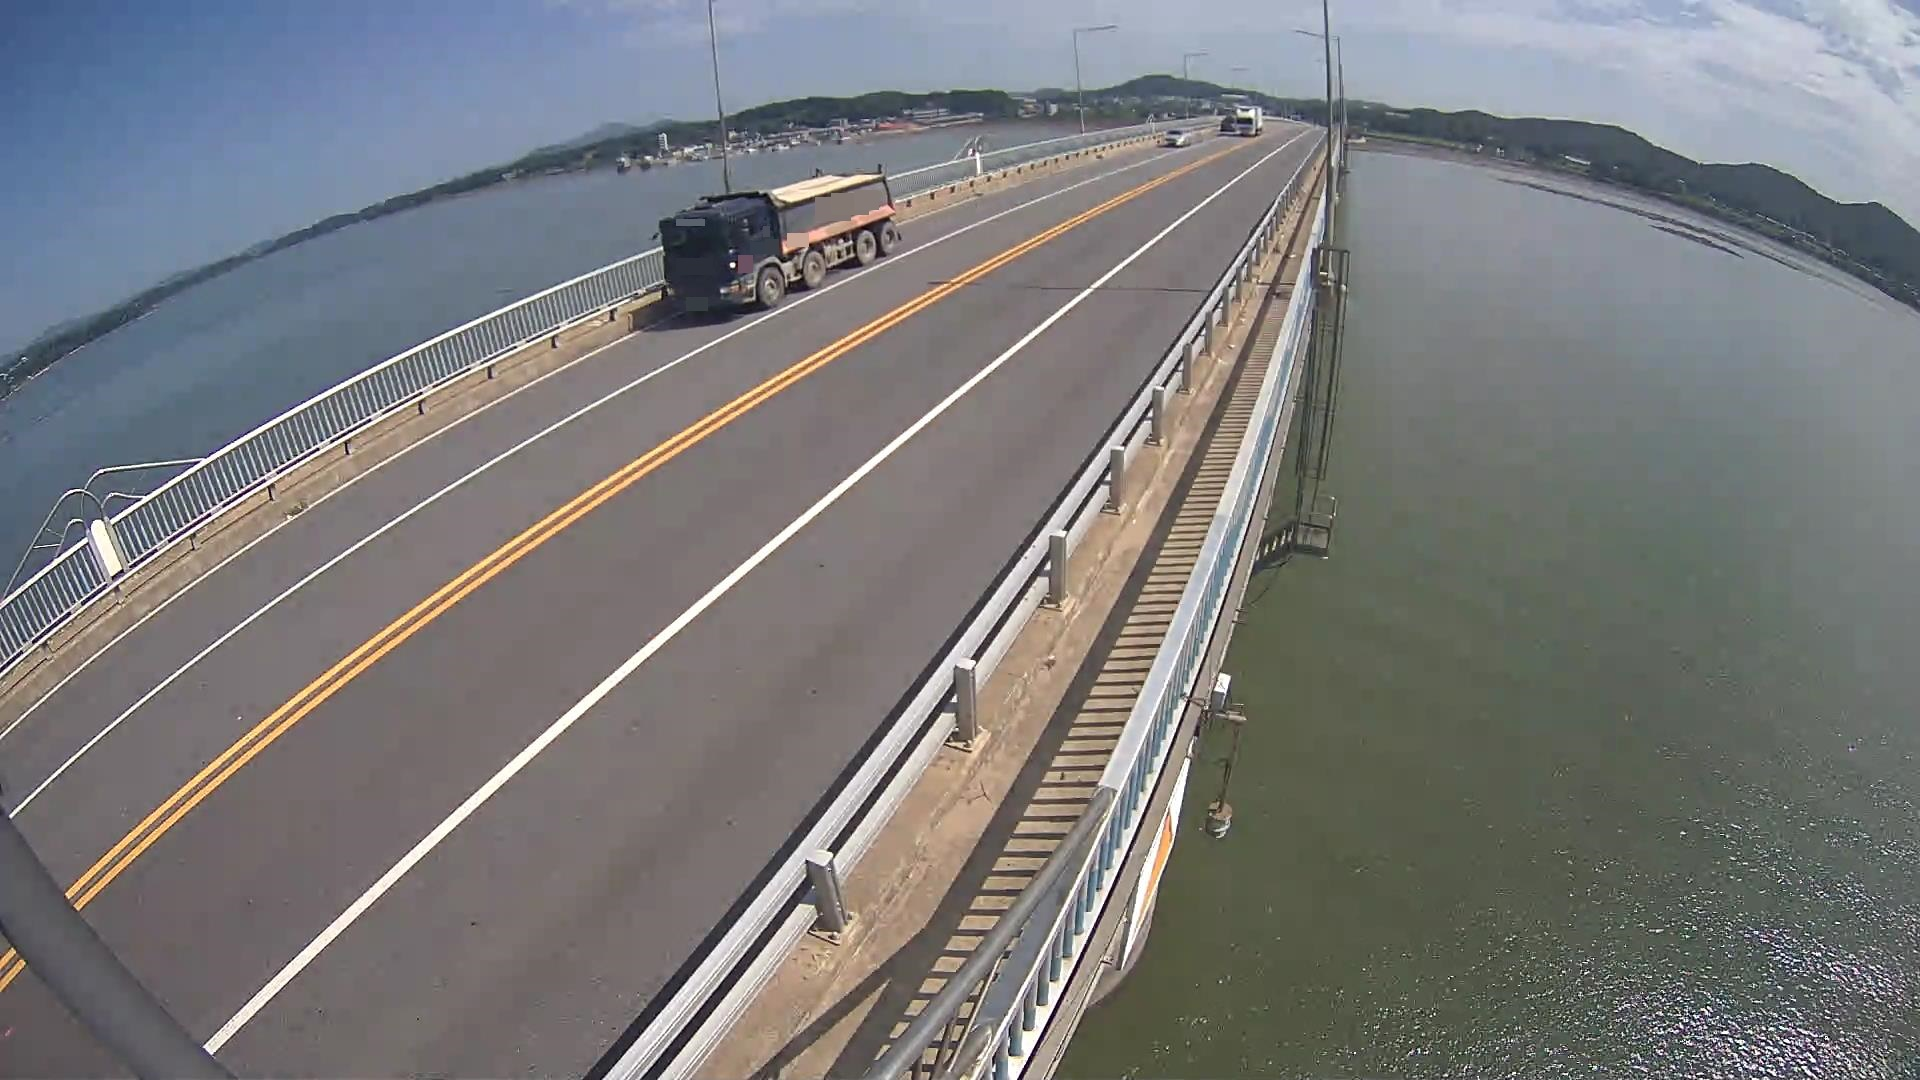정상차량: (649, 164, 902, 309)
